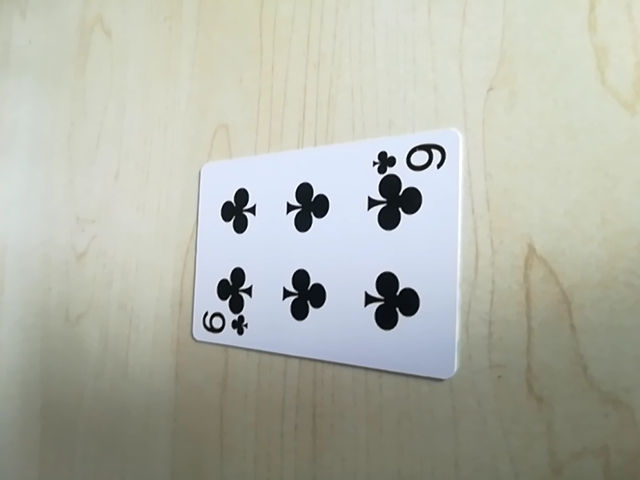mh 6: (372, 141, 449, 177), (196, 306, 250, 340)
